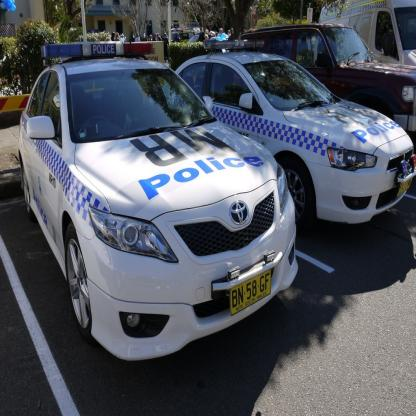Car: (19, 1, 300, 363), (149, 1, 416, 225), (233, 24, 416, 151), (170, 28, 197, 47), (189, 35, 217, 45)
